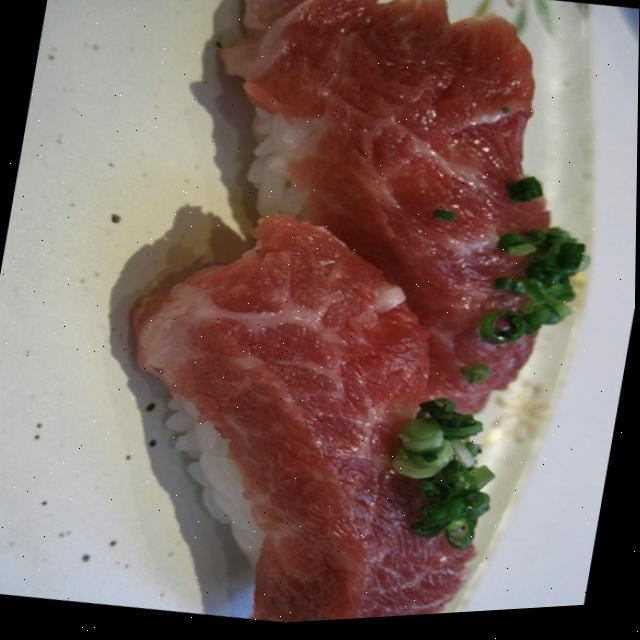刺身生食: (63, 0, 614, 637)
